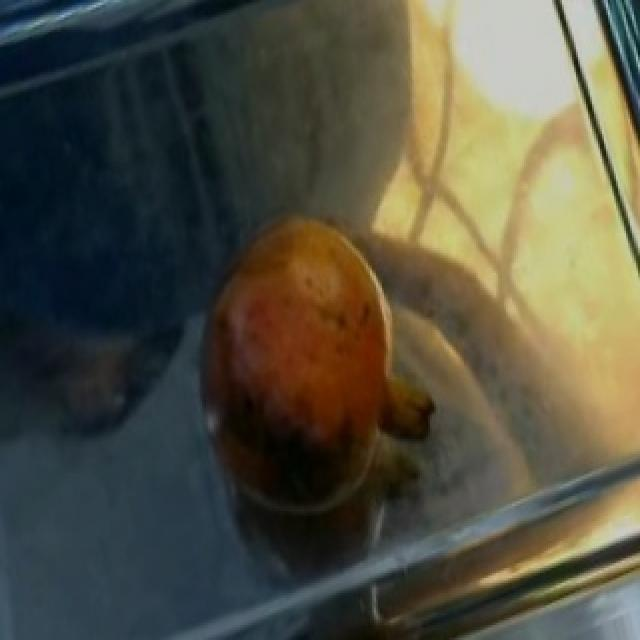fruit: (174, 191, 428, 464)
